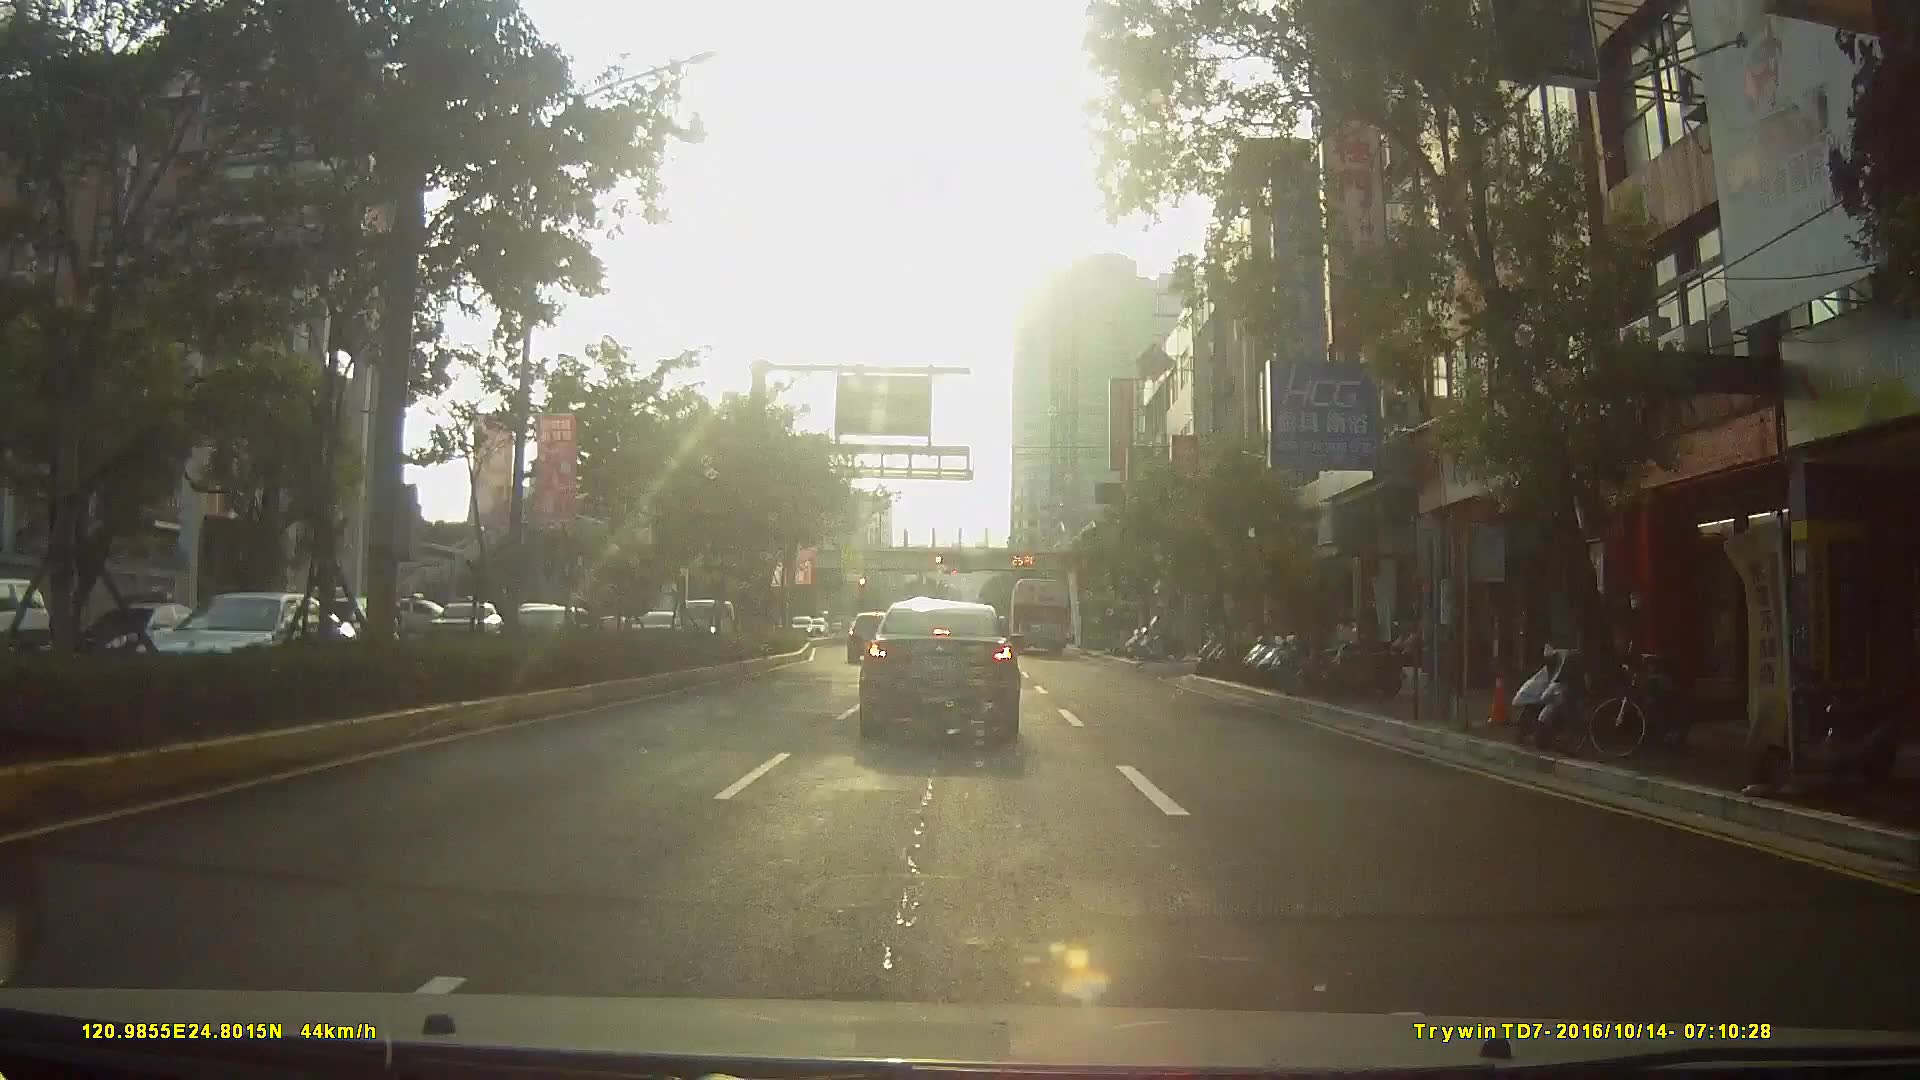vehicle: (857, 603, 1021, 744), (152, 589, 369, 684), (73, 599, 225, 676), (196, 593, 305, 662), (1006, 578, 1073, 657), (303, 597, 393, 657), (422, 599, 498, 642), (845, 611, 895, 663)
